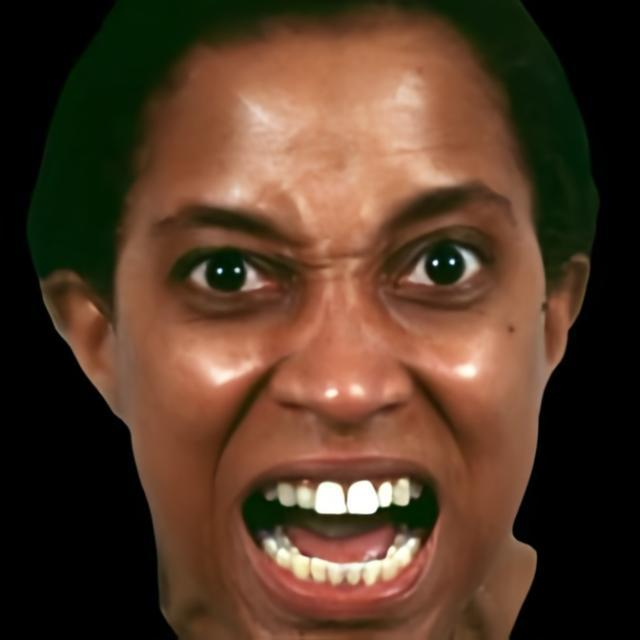anger: (112, 87, 548, 640)
